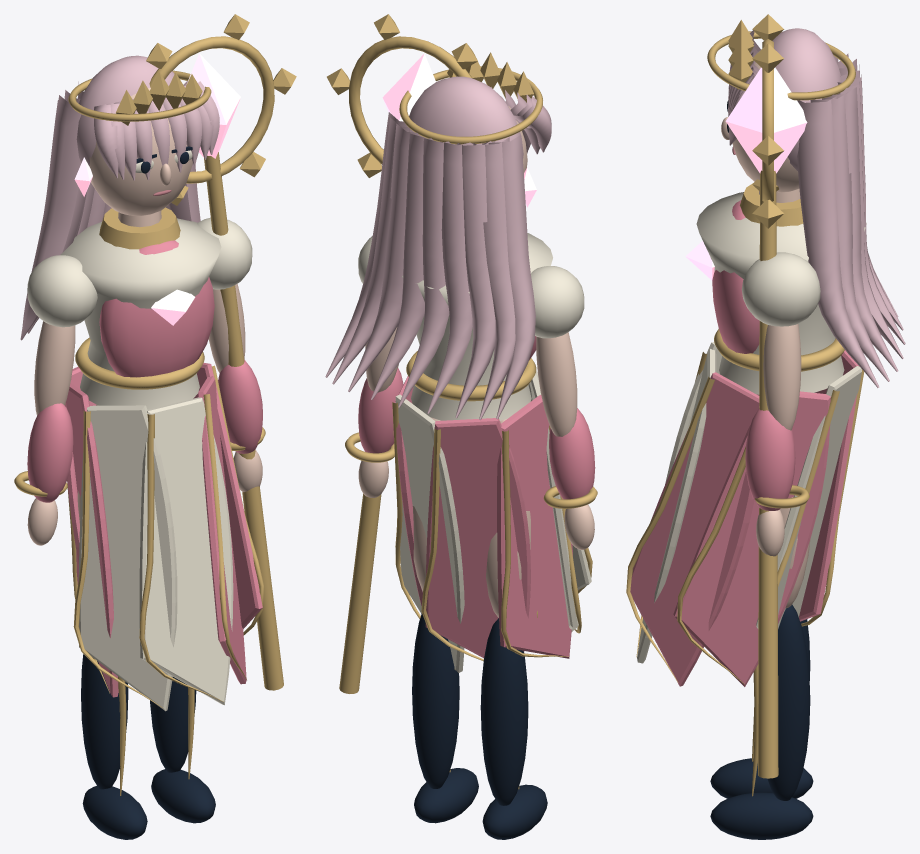
File: healer.glb
3 views of the same model, side by side, from view 1: azimuth 30°, elevation 25°; view 2: azimuth 150°, elevation 25°; view 3: azimuth 270°, elevation 25° (orthographic). The views are drawn at different scales.
Parts seen in each view (by area): view 1: node_69, node_81, node_3, node_4, node_59, node_30, node_10, node_85, node_71, node_47, node_79, node_73 (+31 smaller); view 2: node_77, node_79, node_85, node_91, node_75, node_32, node_30, node_33, node_31, node_34, node_11, node_35 (+30 smaller); view 3: node_71, node_73, node_38, node_3, node_59, node_91, node_53, node_75, node_61, node_37, node_55, node_93 (+24 smaller).
Part boxes in pixels (bbox=[...]): node_69: bbox=[139, 397, 233, 705]; node_81: bbox=[78, 405, 177, 711]; node_3: bbox=[60, 218, 221, 409]; node_4: bbox=[99, 240, 214, 377]; node_59: bbox=[204, 152, 283, 690]; node_30: bbox=[20, 100, 86, 340]; node_10: bbox=[89, 87, 192, 215]; node_85: bbox=[81, 654, 128, 789]; node_71: bbox=[197, 376, 246, 684]; node_47: bbox=[27, 255, 97, 327]; node_79: bbox=[66, 383, 118, 697]; node_73: bbox=[193, 363, 262, 628]; node_77: bbox=[425, 418, 530, 658]; node_79: bbox=[497, 395, 572, 658]; node_85: bbox=[480, 618, 528, 805]; node_91: bbox=[412, 613, 459, 788]; node_75: bbox=[395, 394, 464, 672]; node_32: bbox=[455, 141, 495, 418]; node_30: bbox=[482, 135, 535, 419]; node_33: bbox=[427, 141, 473, 413]; node_31: bbox=[473, 137, 515, 419]; node_34: bbox=[398, 138, 454, 407]; node_11: bbox=[409, 76, 523, 158]; node_35: bbox=[371, 128, 433, 399]; node_71: bbox=[630, 372, 759, 686]; node_73: bbox=[673, 391, 830, 686]; node_38: bbox=[797, 95, 879, 387]; node_3: bbox=[696, 192, 866, 394]; node_59: bbox=[758, 170, 778, 778]; node_91: bbox=[767, 604, 810, 800]; node_53: bbox=[741, 252, 820, 326]; node_75: bbox=[756, 366, 861, 628]; node_61: bbox=[725, 67, 807, 173]; node_37: bbox=[810, 92, 889, 381]; node_55: bbox=[745, 408, 795, 510]; node_93: bbox=[710, 792, 813, 839].
Size of the model in its own units: 0.7335 by 2.02 by 0.6233.
